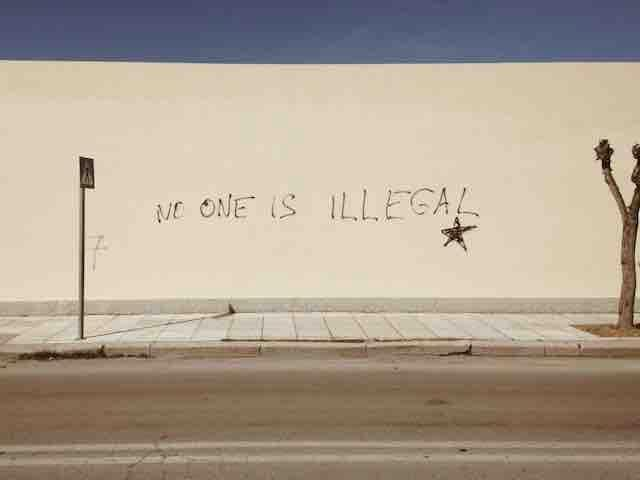graffiti: (329, 187, 478, 253), (200, 193, 257, 221), (269, 193, 297, 221), (154, 200, 184, 223)
